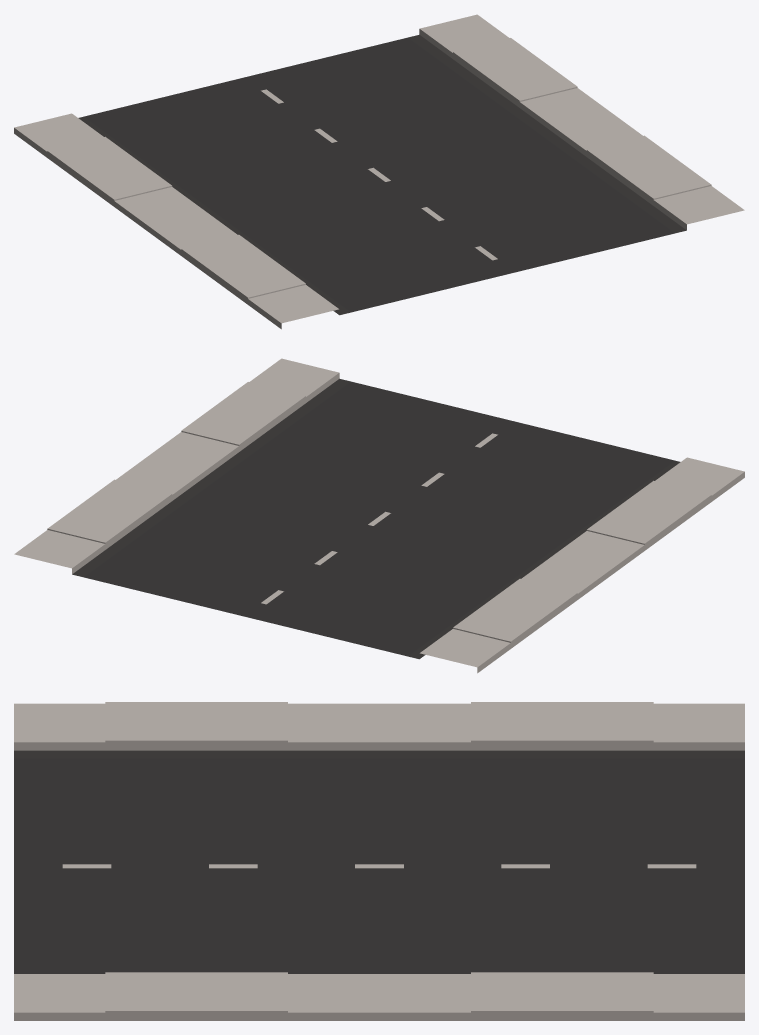
File: poly-street-straight.glb
The picture shows the model from 3 angles, top to bottom: view 1: azimuth 30°, elevation 25°; view 2: azimuth 150°, elevation 25°; view 3: azimuth 270°, elevation 25°; orthographic projection. The views are drawn at different scales.
Parts seen in each view (by area): view 1: Street_Straight; view 2: Street_Straight; view 3: Street_Straight.
Part boxes in pixels (left/top/right/bottom): Street_Straight: left=14, top=14, right=744, bottom=329; Street_Straight: left=14, top=358, right=744, bottom=673; Street_Straight: left=14, top=702, right=744, bottom=1020.
Size of the model in its own units: 8 by 0.1201 by 8.
Materials: 1 (1 with a texture image).
